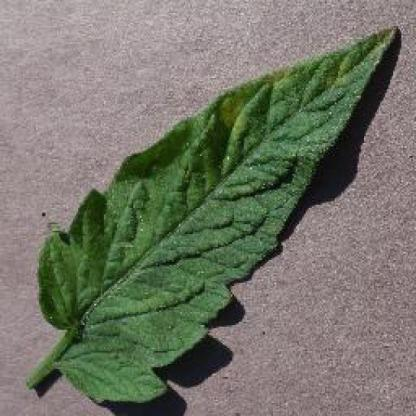Tomato_Leaf_Mold: (40, 26, 396, 331)
